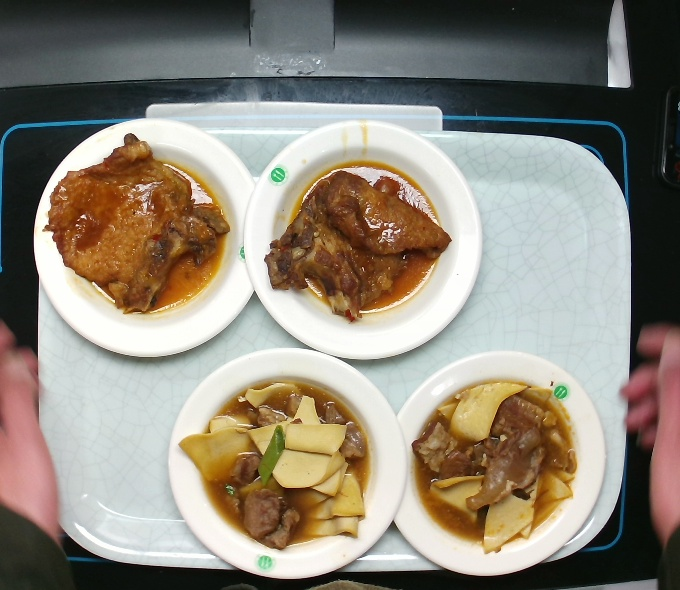wcq-DaPai: (38, 127, 234, 319), (260, 154, 455, 327)
wcq-QianZhangNiuRou: (174, 374, 384, 554), (403, 374, 583, 559)
